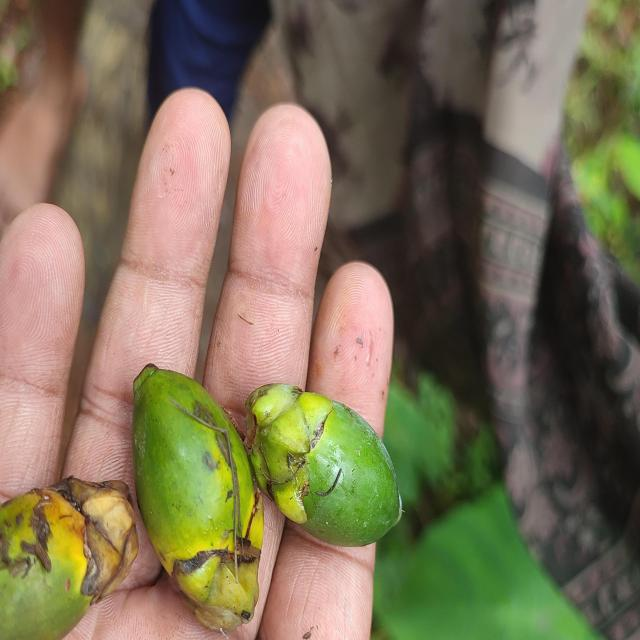damaged: (131, 366, 263, 631), (247, 386, 403, 550), (0, 480, 144, 640)
